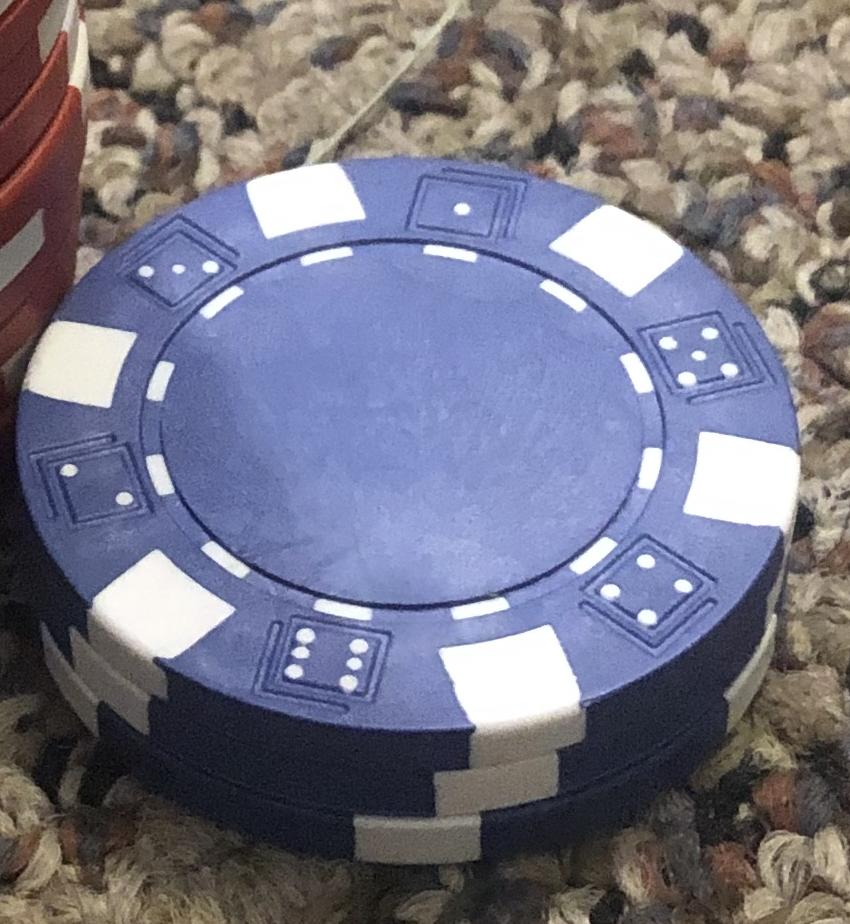Chip: (1, 1, 850, 924)
